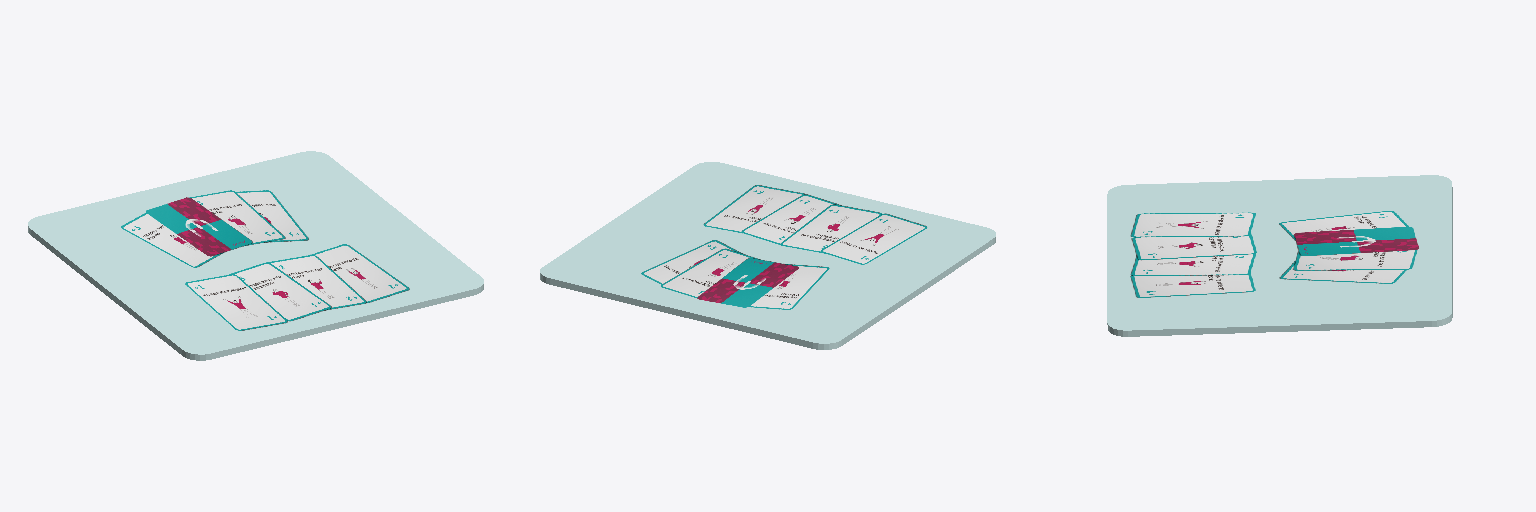
3 views of the same model, side by side, from view 1: azimuth 30°, elevation 25°; view 2: azimuth 150°, elevation 25°; view 3: azimuth 270°, elevation 25° (orthographic).
Parts seen in each view (by area): view 1: a; view 2: a; view 3: a.
Part boxes in pixels (bbox=[...]): a: bbox=[28, 151, 483, 360]; a: bbox=[540, 162, 995, 349]; a: bbox=[1107, 175, 1452, 336].
Bounding box in the file's own units: 5.35 × 0.2934 × 5.35.
1 materials, 1 textured.